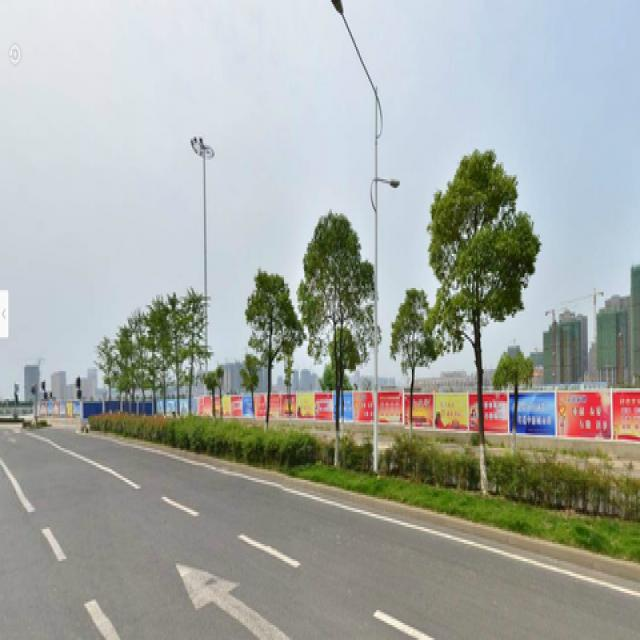cinn: (430, 175, 518, 454), (306, 218, 362, 469), (243, 269, 292, 448)
gink: (182, 286, 210, 422), (163, 292, 181, 420)
